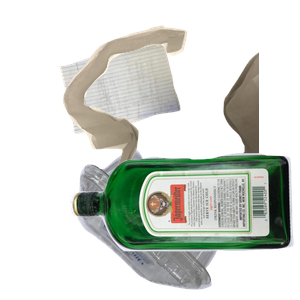glass: (67, 150, 300, 300)
paper: (56, 40, 229, 166)
plastic: (75, 147, 289, 300)
trash: (60, 23, 300, 203)
